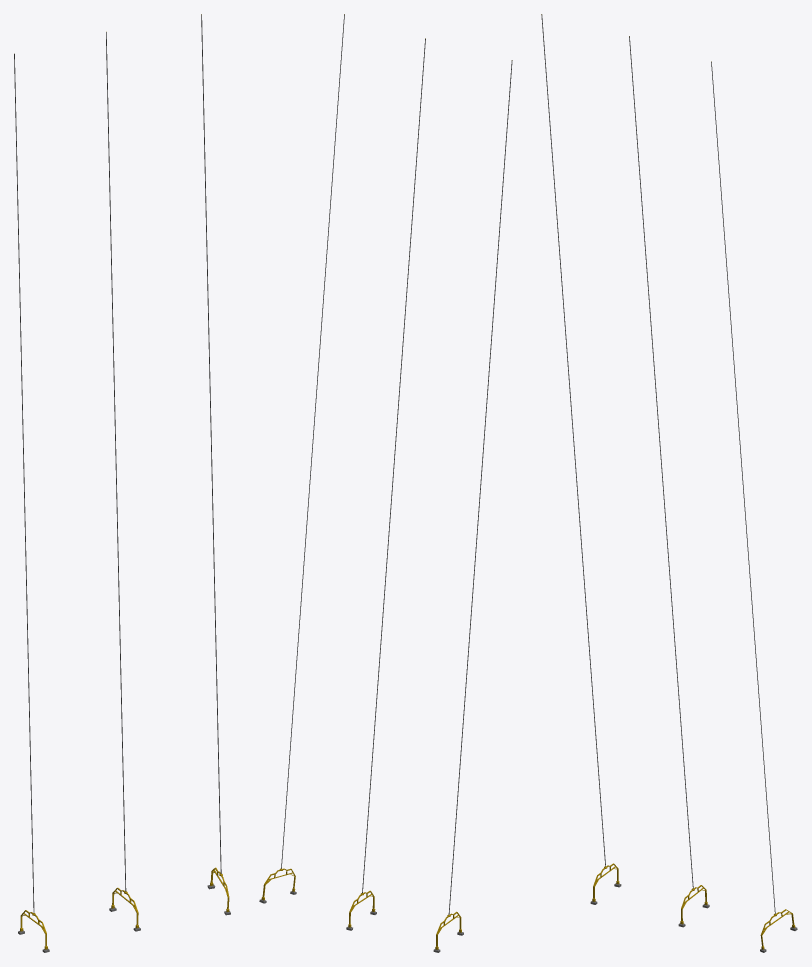
Rendered from Halterung9.fbx.
The picture shows the model from 3 angles, left to right: view 1: azimuth 30°, elevation 25°; view 2: azimuth 150°, elevation 25°; view 3: azimuth 330°, elevation 25°; orthographic projection. The views are drawn at different scales.
Visible parts, largest first — view 1: HalerungSlalom1; view 2: HalerungSlalom1; view 3: HalerungSlalom1.
Part boxes in pixels (x1,y1,x2,y2): HalerungSlalom1: (14, 14, 230, 952); HalerungSlalom1: (259, 14, 512, 952); HalerungSlalom1: (541, 14, 797, 952).
Bounding box in the file's own units: 24621 × 93236 × 7884.
